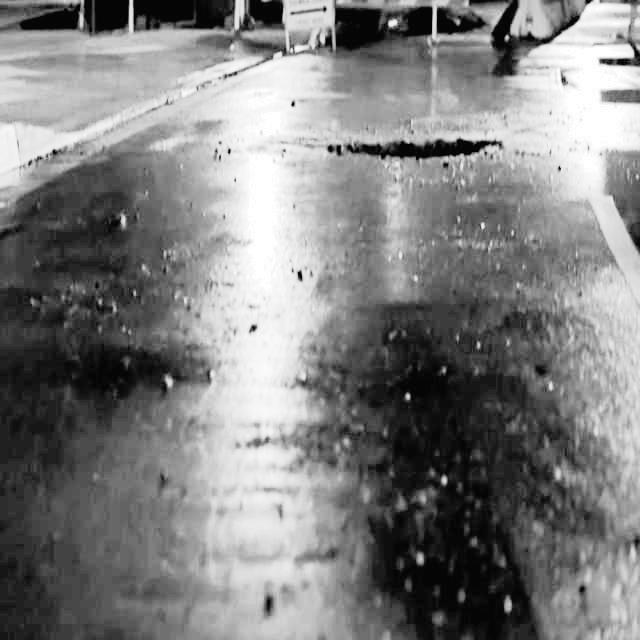Pothole: (330, 116, 503, 175)
